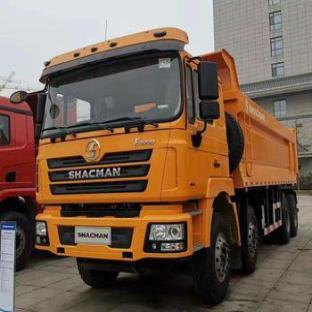Vehicle: (30, 27, 312, 297)
